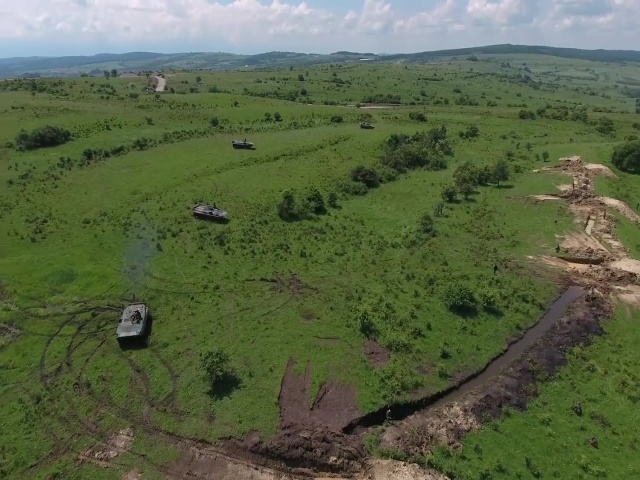vehicle: (115, 300, 152, 343), (191, 201, 227, 222), (230, 138, 255, 150), (360, 122, 374, 130)
